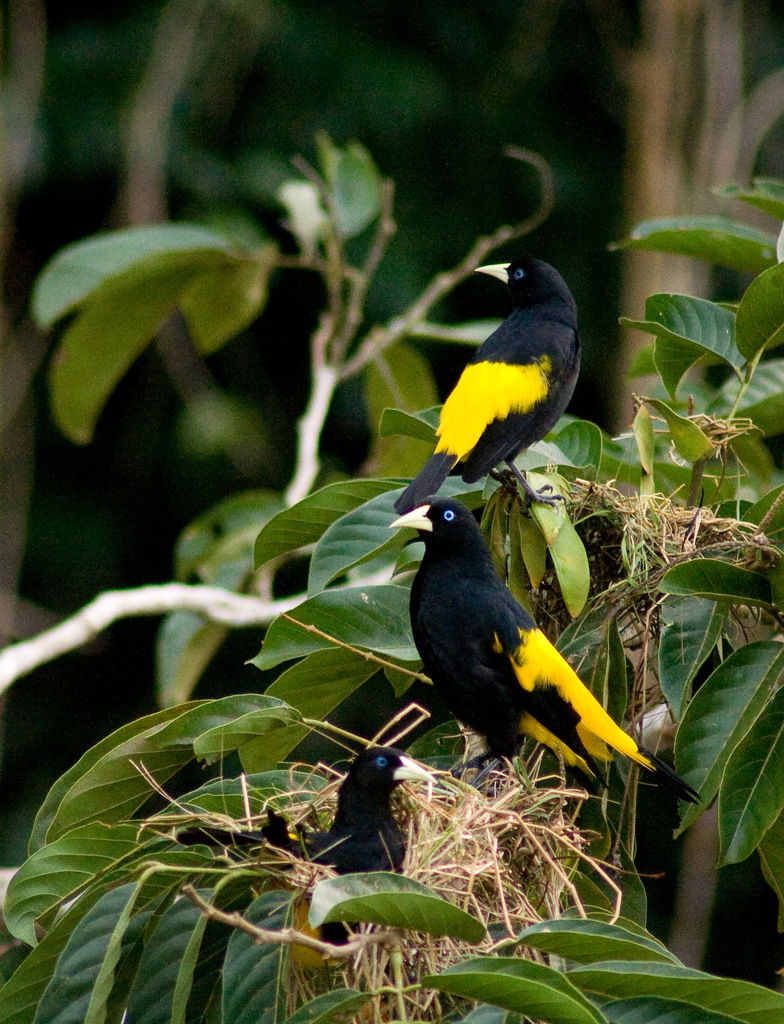Bird: (390, 497, 708, 807), (175, 744, 436, 946), (391, 252, 584, 523)
